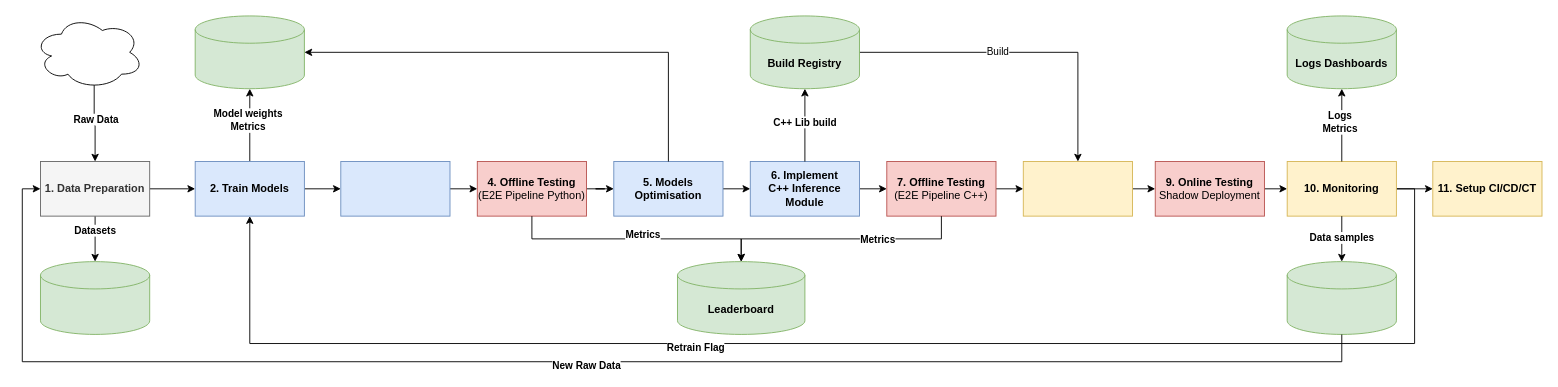
This 1558x387 diagram has some shape labels left out. The box of each missing label's shape, as (x1, y1, x2, y2) in pixels:
3. Implement Simple Python Inference Module: (340, 161, 450, 216)
8. Deployment: (1022, 161, 1132, 216)
Artefact Registry: (194, 15, 304, 89)
Data Lake: (33, 15, 143, 89)
Dataset Registry: (40, 261, 150, 334)
Raw Data Storage: (1286, 261, 1396, 334)
